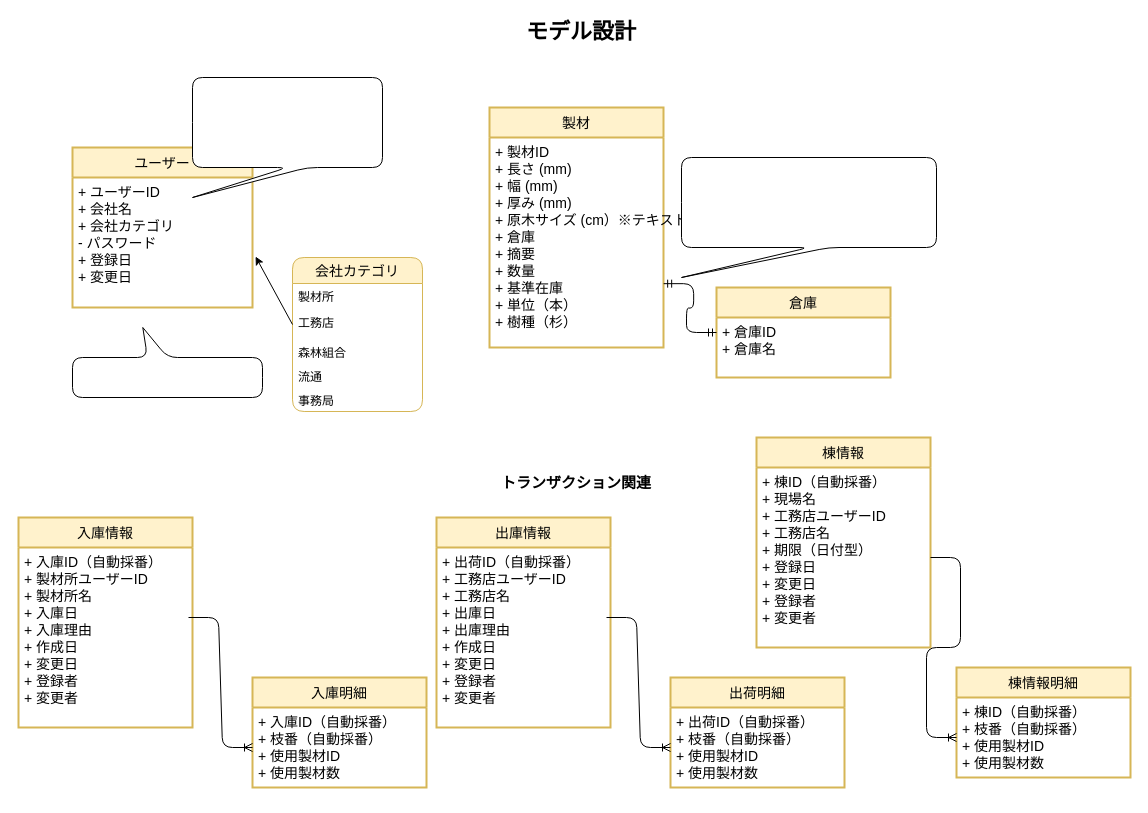
This 1148x813 diagram has some shape labels left out. Here are the shapes that lost their labels. From the top down, the centre of each, then its label:
At (287,137): "ユーザー名ではなく会社メインの方がいいか。 →会社単位".
At (808,217): "1棟当たり必要在庫数ｘ10".
At (167,362): "データは退会時に削除".
